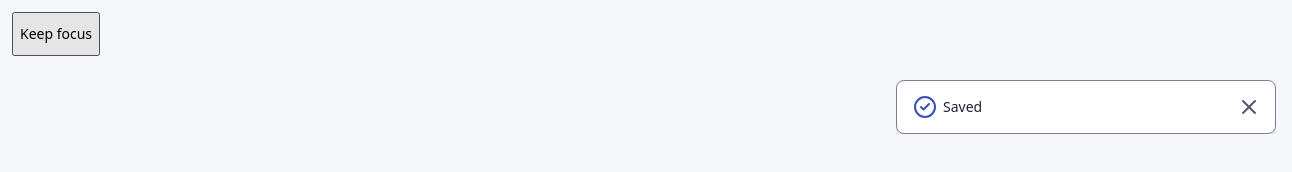
Test: pauses the remaining time during hover and focus
Hover over the text "Saved" at (1086, 107), box [896, 80, 1276, 134]
Expected: the text "Saved" is shown, [943, 97, 982, 116]
Focus the button named "Dismiss" at (1249, 107), box [1227, 85, 1271, 129]
Expected: the text "Saved" is shown, [943, 97, 982, 116]
Leave the button named "Dismiss", box [1227, 85, 1271, 129]
Wait 1660 ms
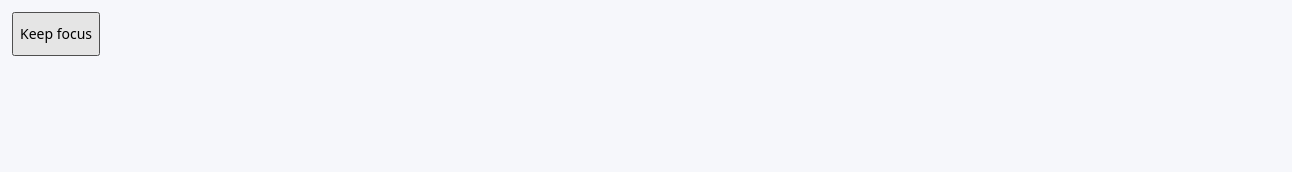
Expected: the text "Saved" is gone
